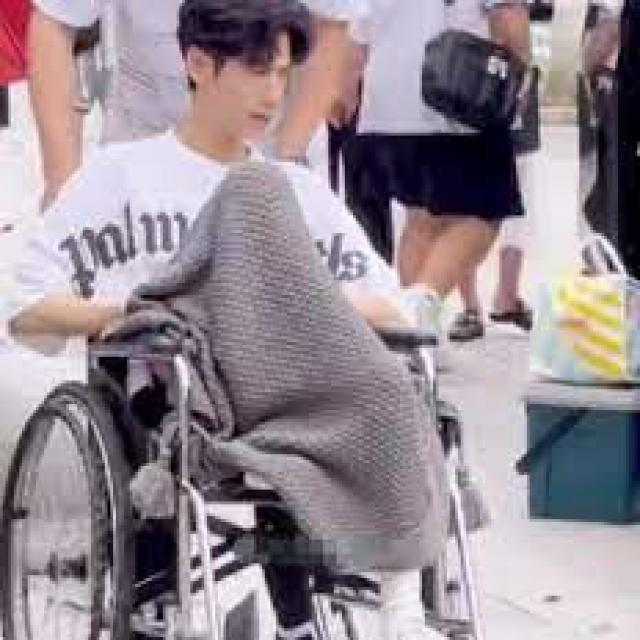wheelchairs: (2, 304, 492, 638)
